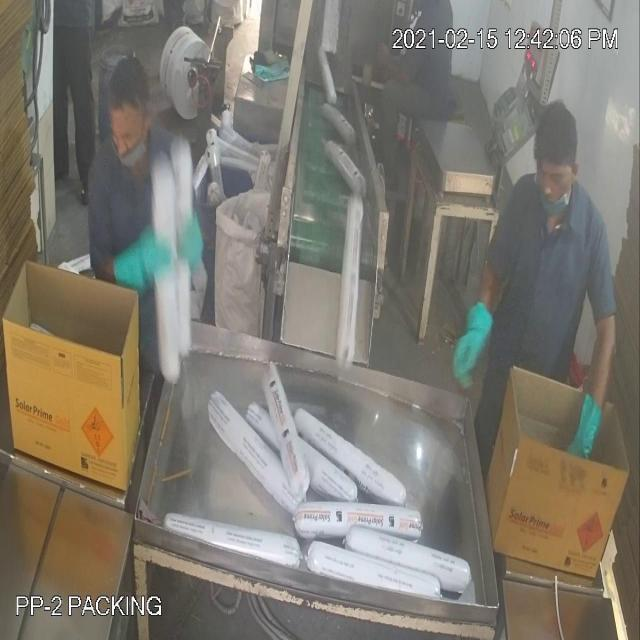Gloves: (44, 54, 584, 438)
